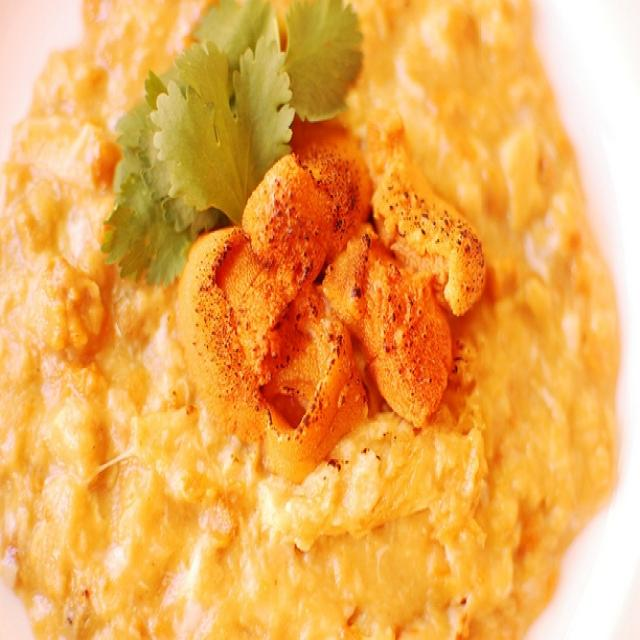鸡蛋料理: (22, 20, 601, 626)
